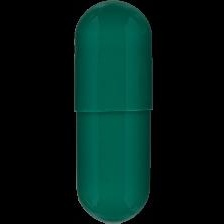54868-2199: (0, 0, 224, 224)
